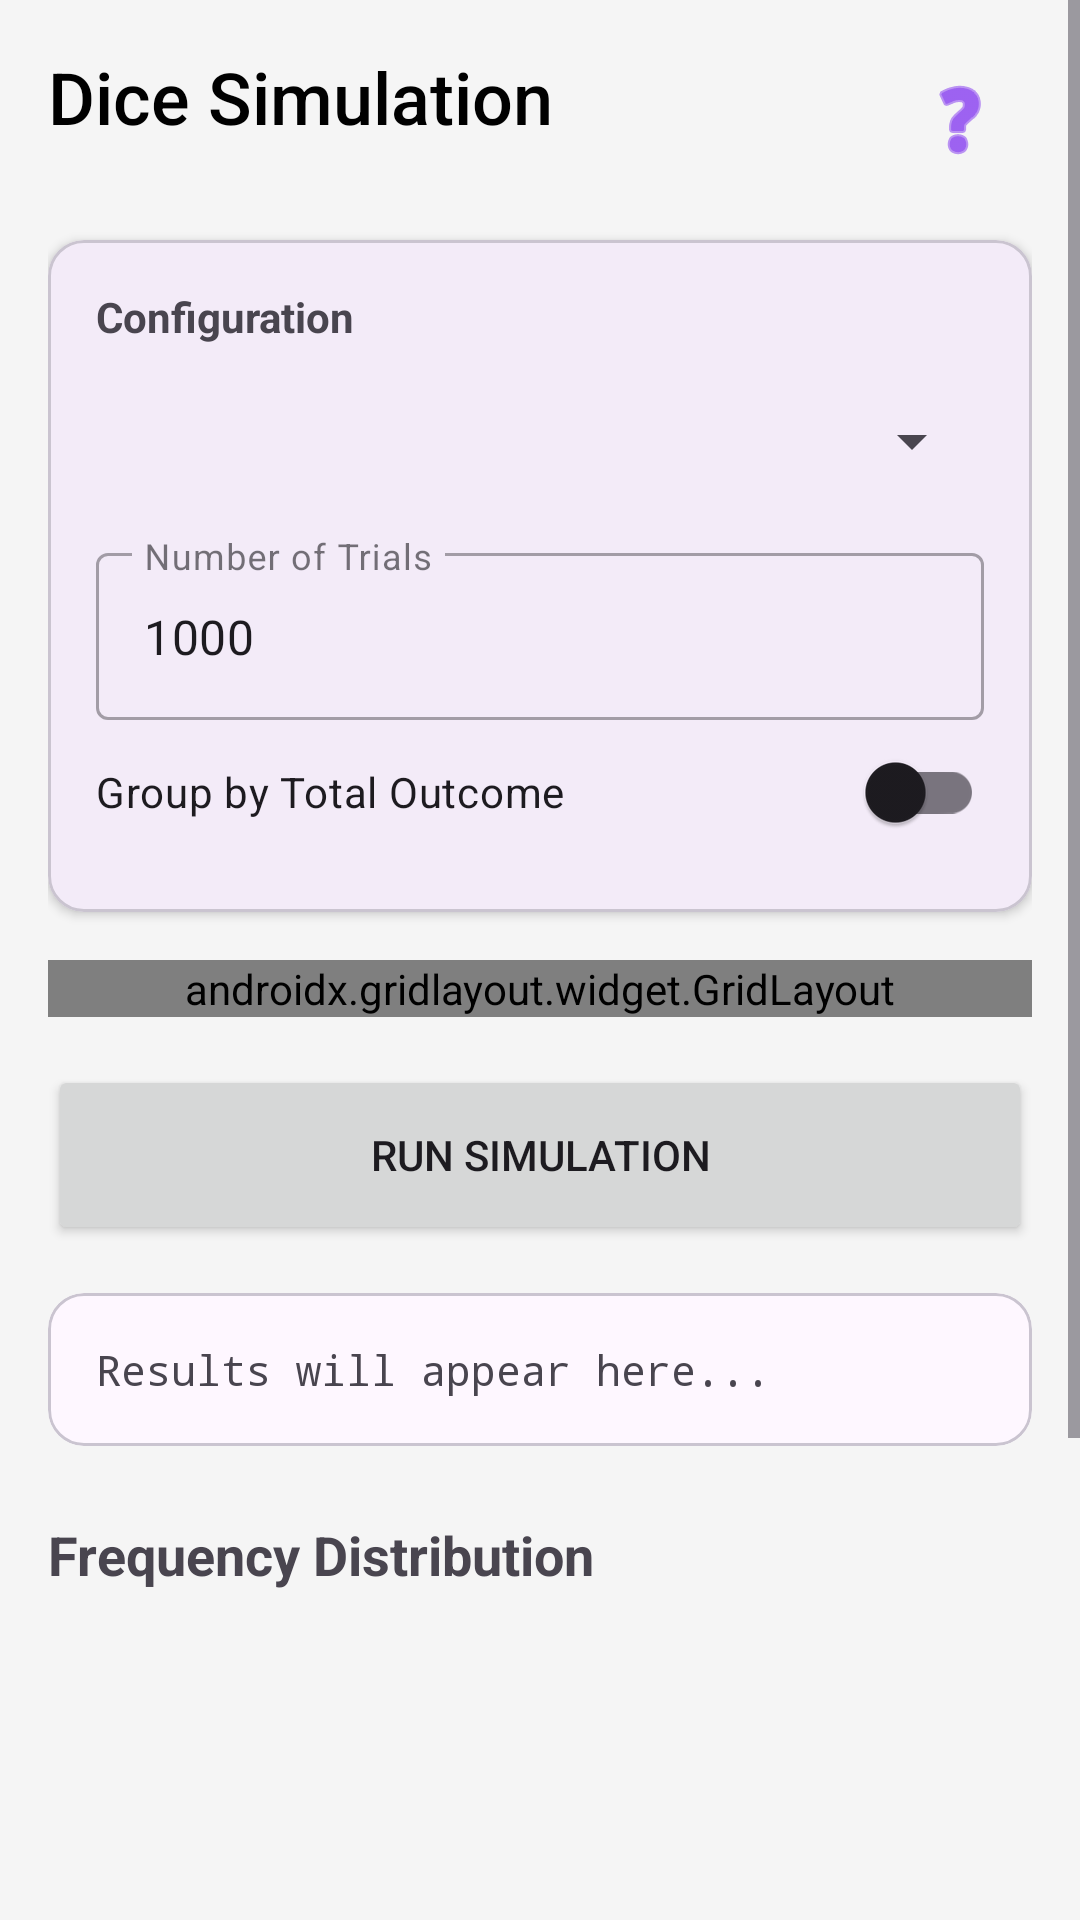

Named icons in this screenshot (1080x1920) and their bounding boxes, (x1, y1, x2, y2):
help: (939, 86, 981, 154)
